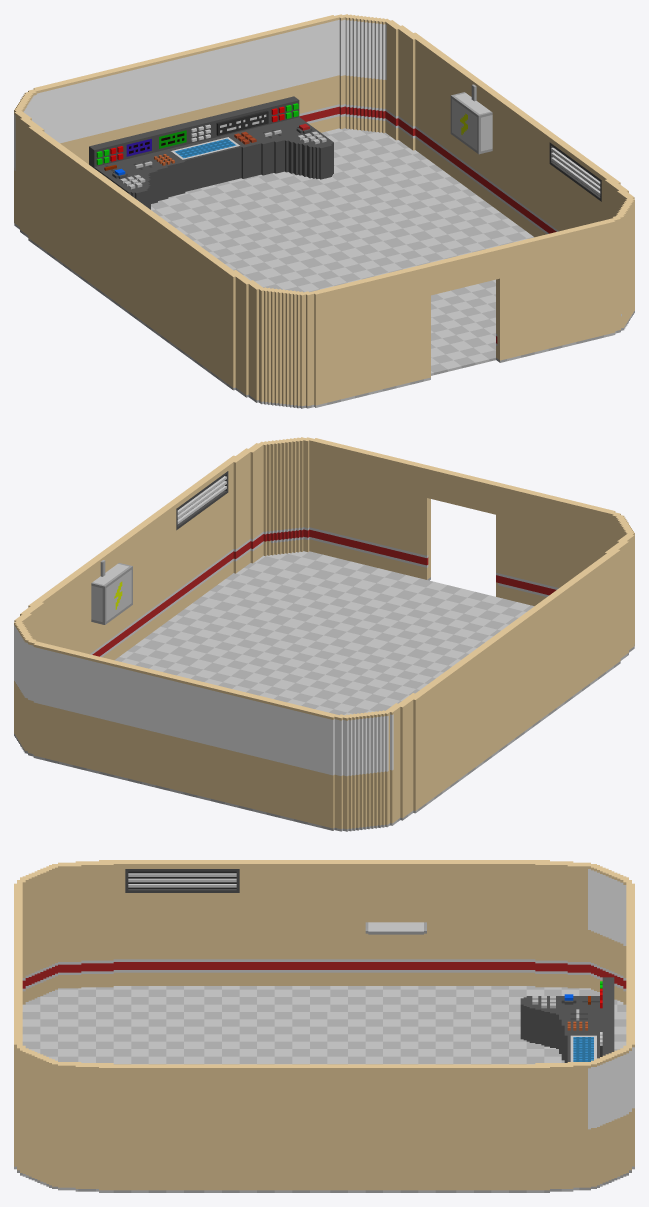
The model's file is start_location.obj.
3 renders of one model, top to bottom at view 1: azimuth 30°, elevation 25°; view 2: azimuth 150°, elevation 25°; view 3: azimuth 270°, elevation 25°, orthographic. The views are drawn at different scales.
Size of the model in its own units: 16.8 by 4.7 by 21.2.
1 material, 1 textured.
